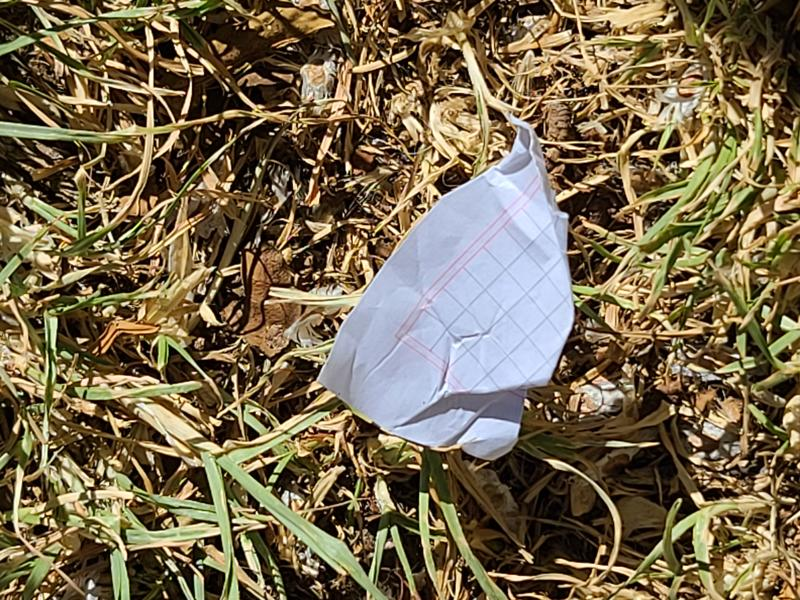papel: (317, 120, 575, 464)
